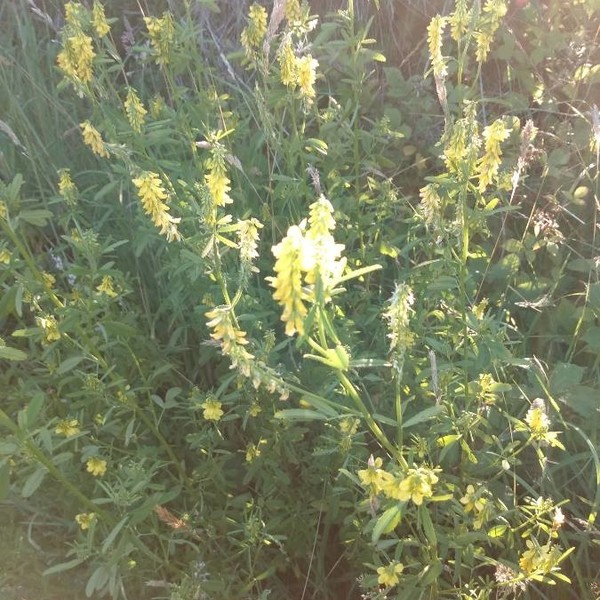obstacle: (120, 82, 497, 516)
